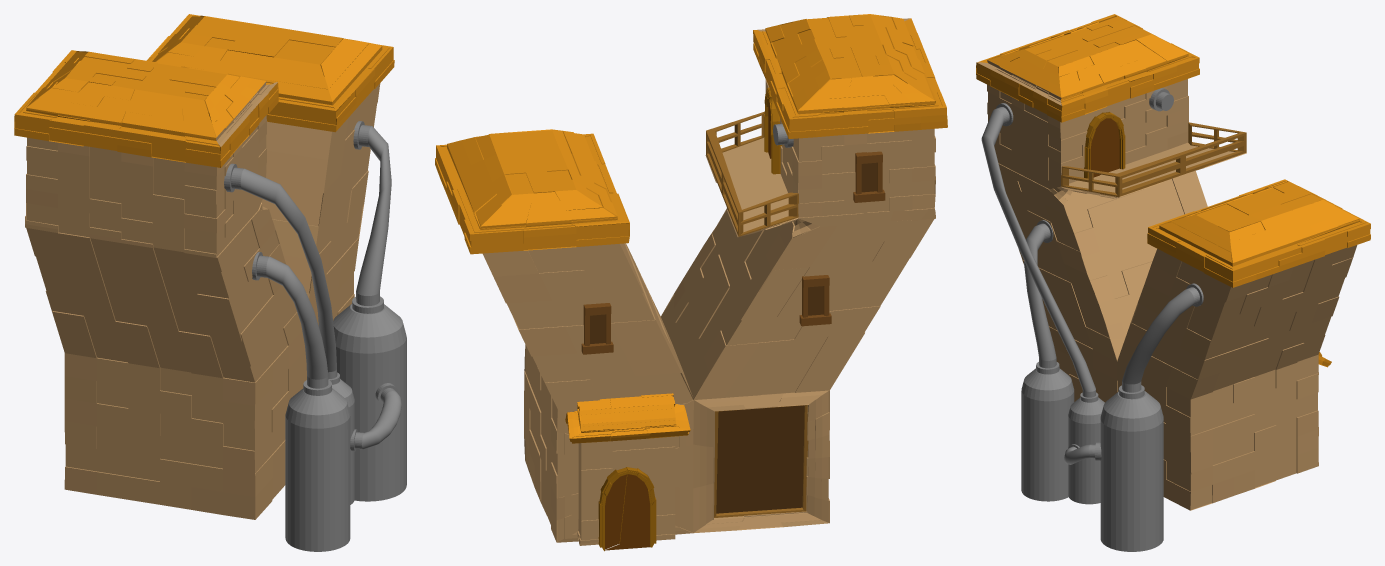
The model's file is Shop_Building_2.fbx.
3 renders of one model, left to right at view 1: azimuth 30°, elevation 25°; view 2: azimuth 150°, elevation 25°; view 3: azimuth 270°, elevation 25°, orthographic. The views are drawn at different scales.
Parts seen in each view (by area): view 1: Cube.429, Cylinder.864, Cylinder.865, Cylinder.869, Cylinder.868, Cylinder.867, Cylinder.870, Cylinder.866; view 2: Cube.429, Cube.502, Cube.505, Cube.507, Cube.506, Cube.504; view 3: Cube.429, Cylinder.865, Cylinder.864, Cylinder.869, Cylinder.866, Cylinder.868, Cylinder.867, Cube.504, Cylinder.870.
Part boxes in pixels (box(x1,y1,x2,y2)): Cube.429: box(14, 14, 394, 519); Cylinder.864: box(285, 388, 350, 551); Cylinder.865: box(333, 304, 406, 501); Cylinder.869: box(224, 163, 339, 384); Cylinder.868: box(352, 121, 391, 313); Cylinder.867: box(252, 252, 332, 395); Cylinder.870: box(350, 383, 401, 451); Cylinder.866: box(332, 379, 354, 504); Cube.429: box(435, 14, 947, 545); Cube.502: box(598, 467, 656, 551); Cube.505: box(853, 151, 885, 202); Cube.507: box(581, 303, 613, 354); Cube.506: box(799, 275, 831, 326); Cube.504: box(764, 87, 781, 174); Cube.429: box(976, 14, 1370, 510); Cylinder.865: box(1100, 391, 1163, 551); Cylinder.864: box(1021, 368, 1074, 501); Cylinder.869: box(981, 103, 1098, 402); Cylinder.866: box(1068, 397, 1104, 504); Cylinder.868: box(1118, 283, 1203, 399); Cylinder.867: box(1024, 220, 1059, 374); Cube.504: box(1084, 112, 1125, 178); Cylinder.870: box(1064, 442, 1101, 464).
Size of the model in its own units: 1612 by 1665 by 1496.
